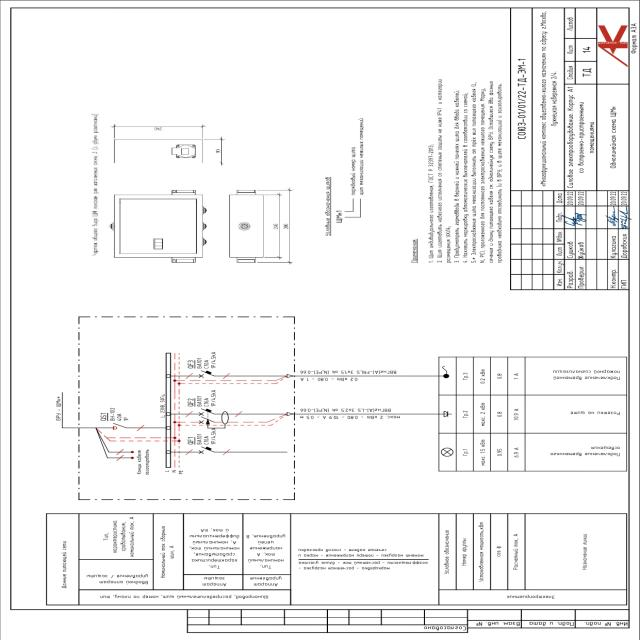-: (197, 351, 217, 370), (197, 428, 217, 447), (197, 389, 217, 407), (110, 407, 129, 423)
QF: (197, 369, 216, 379), (197, 445, 216, 455)
QFD: (198, 408, 230, 430)
QS: (111, 423, 128, 430)
